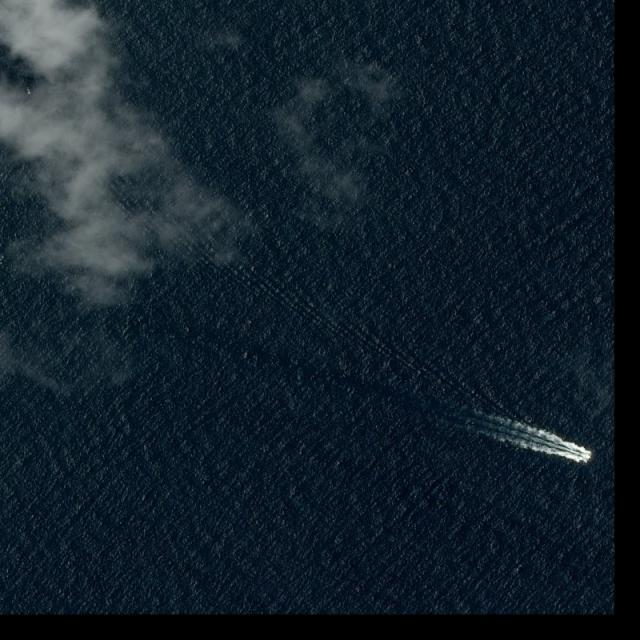ship: (581, 453, 593, 460)
